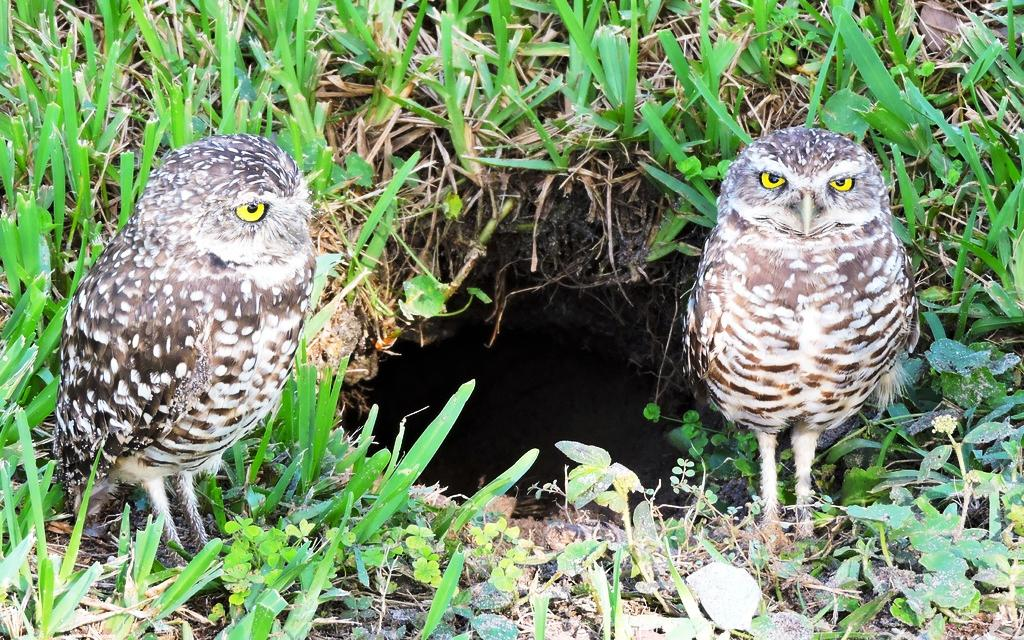Owl: (48, 128, 316, 562), (684, 125, 920, 550)
